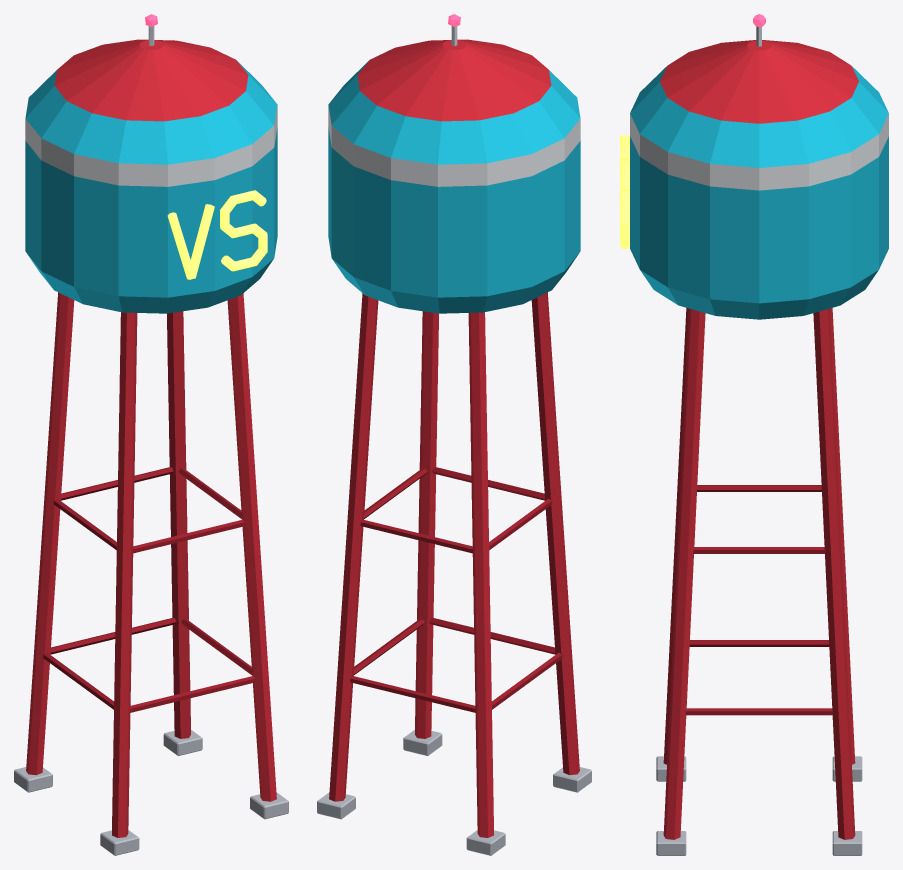
The model's file is WaterTower.fbx.
The picture shows the model from 3 angles, left to right: view 1: azimuth 30°, elevation 25°; view 2: azimuth 150°, elevation 25°; view 3: azimuth 270°, elevation 25°; orthographic projection.
Parts seen in each view (by area): view 1: WaterTower, Neon_Yellow; view 2: WaterTower; view 3: WaterTower, Neon_Yellow.
Part boxes in pixels (x1,y1,x2,y2): WaterTower: [14, 26, 288, 855]; Neon_Yellow: [167, 190, 267, 279]; WaterTower: [317, 26, 591, 855]; WaterTower: [630, 26, 888, 855]; Neon_Yellow: [620, 135, 629, 249].
Bounding box in the file's own units: 10.4 × 35.42 × 10.8.
Materials: 3 (1 with a texture image).
